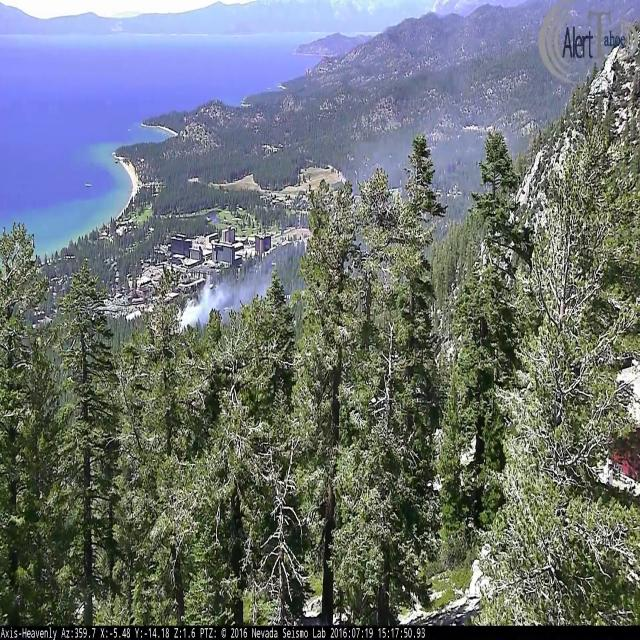smoke: (162, 72, 482, 350)
